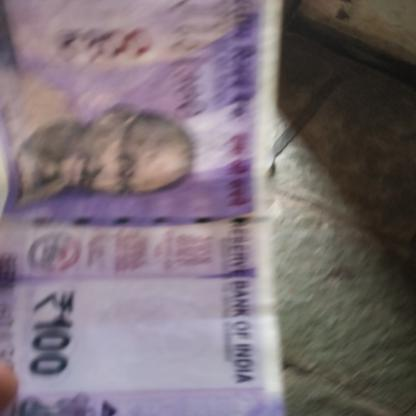New100Front: (0, 3, 271, 415)
